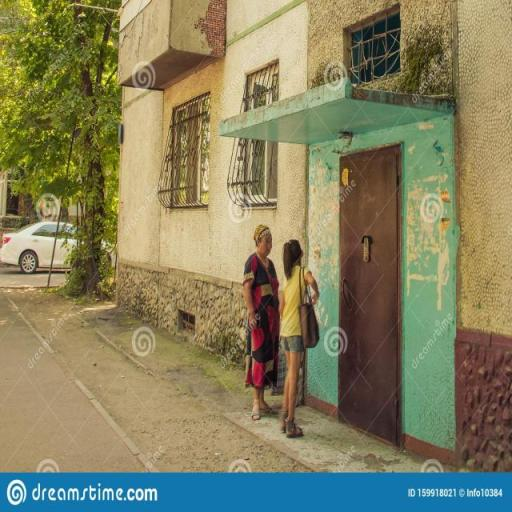person: (279, 238, 320, 442), (243, 223, 280, 420)
